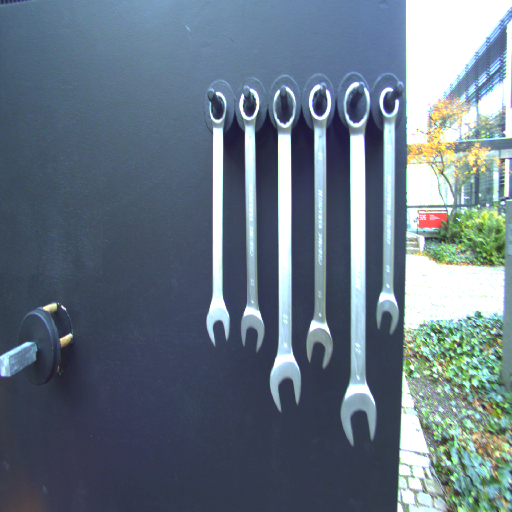bottom: (339, 381, 380, 450), (269, 350, 303, 416), (203, 300, 234, 351), (306, 317, 334, 373), (238, 304, 265, 356), (373, 288, 401, 335)
top: (341, 80, 374, 132), (270, 84, 298, 134), (306, 81, 333, 125), (205, 87, 230, 128), (237, 85, 262, 125), (378, 84, 404, 121)
